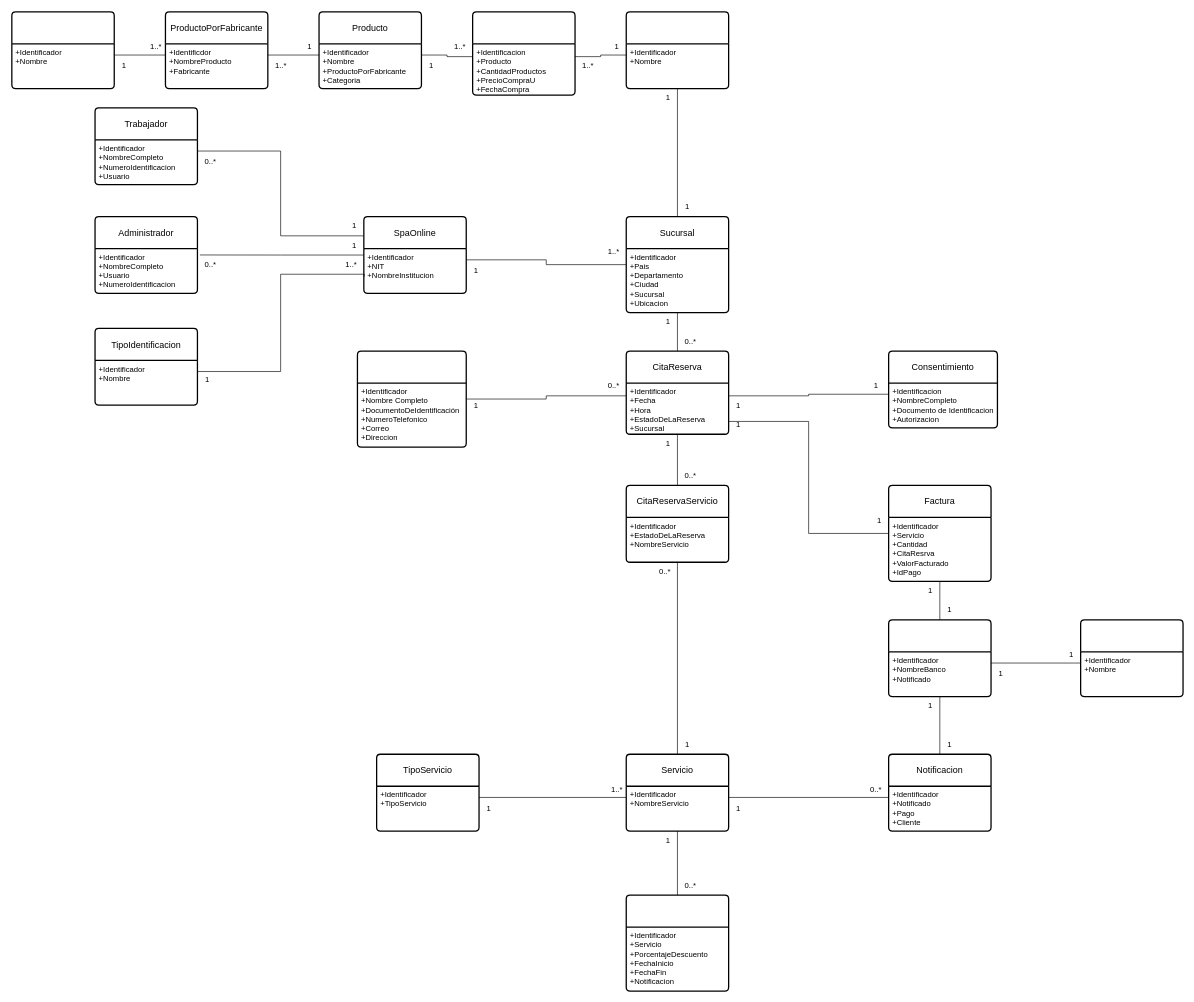
The diagram is 1194 pixels wide and 1002 high, and some of its shapes have lost their labels. The box of each missing label's shape, as (x1, y1, x2, y2) in pixels:
Cliente: (356, 350, 467, 447)
Fabricante: (11, 11, 115, 89)
Inventario: (625, 11, 729, 89)
Oferta: (625, 894, 729, 991)
Pago: (888, 619, 991, 697)
ProductoInventario: (472, 11, 575, 95)
TipoPago: (1080, 619, 1183, 697)
